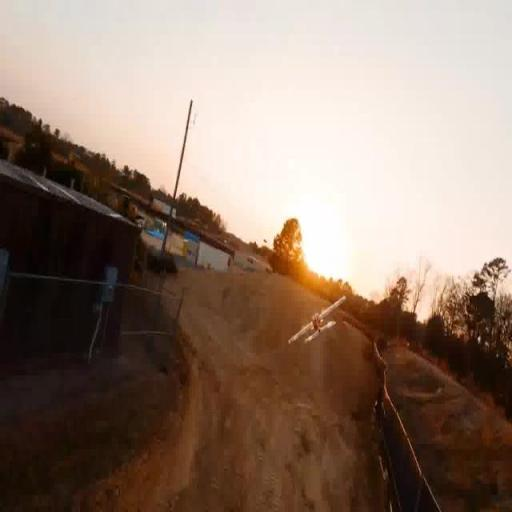uav: (286, 286, 350, 357)
